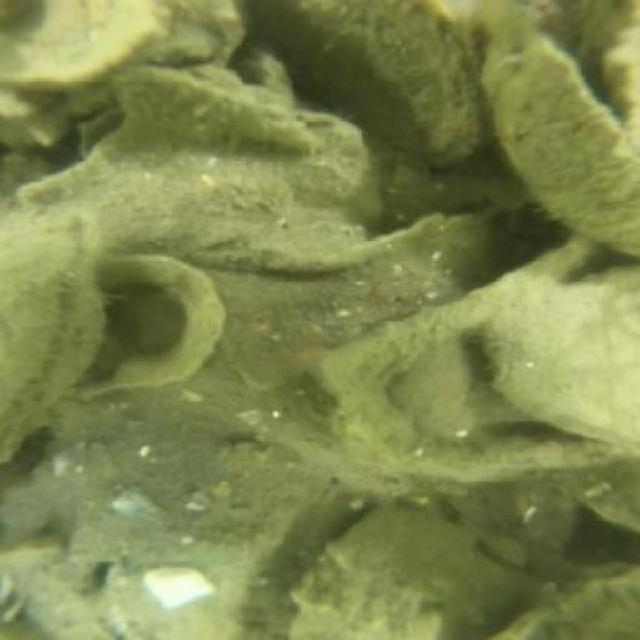Oyster-Closed: (2, 212, 101, 462)
Oyster-Indeterminate: (316, 234, 638, 482), (5, 444, 332, 638), (19, 112, 372, 269), (247, 0, 484, 166), (293, 508, 511, 635), (64, 252, 235, 406), (488, 277, 634, 443), (115, 65, 320, 149), (115, 540, 247, 638), (494, 573, 638, 638)
Oyster-Open: (479, 0, 638, 257)
